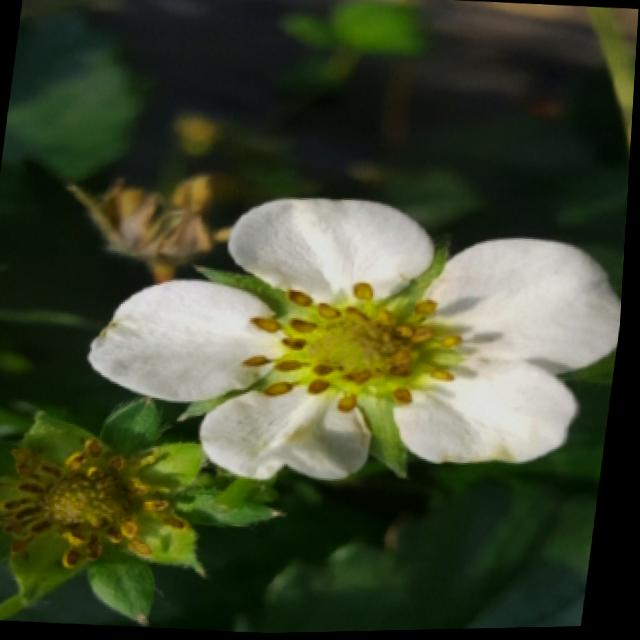Blossom Blight: (243, 277, 472, 419), (0, 433, 197, 579)
